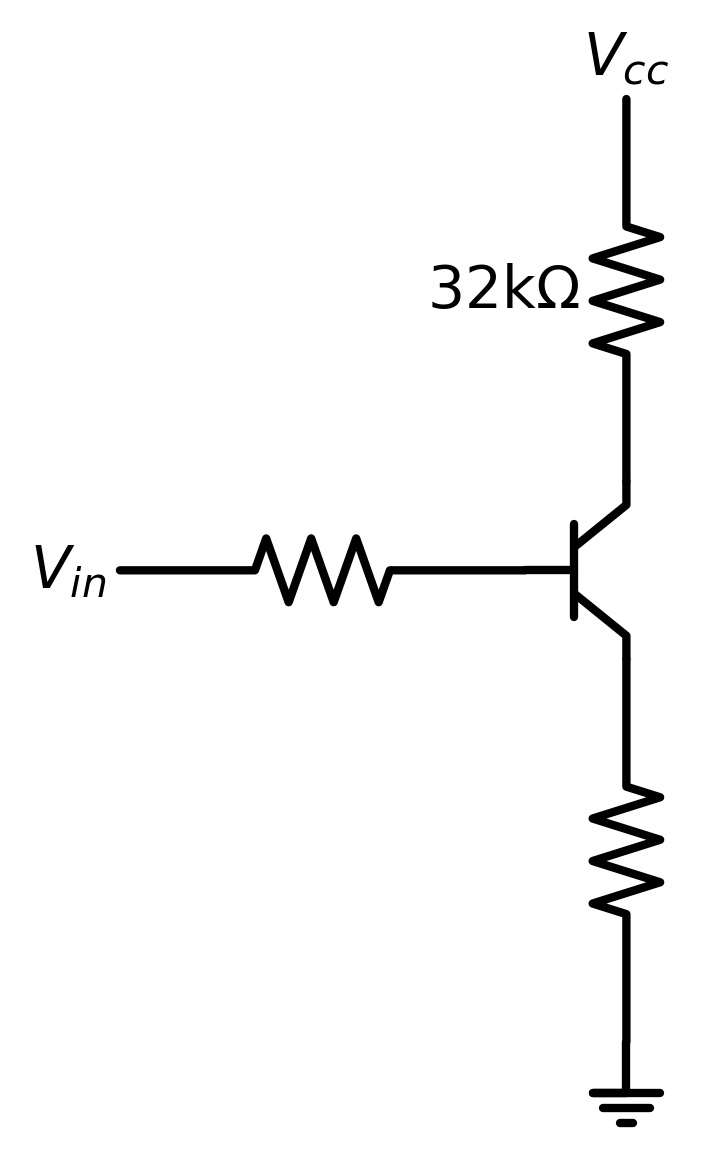bjt: (524, 466, 664, 672)
ground: (577, 1077, 675, 1146)
resistor: (241, 517, 425, 624), (573, 775, 677, 939), (581, 214, 675, 370)
